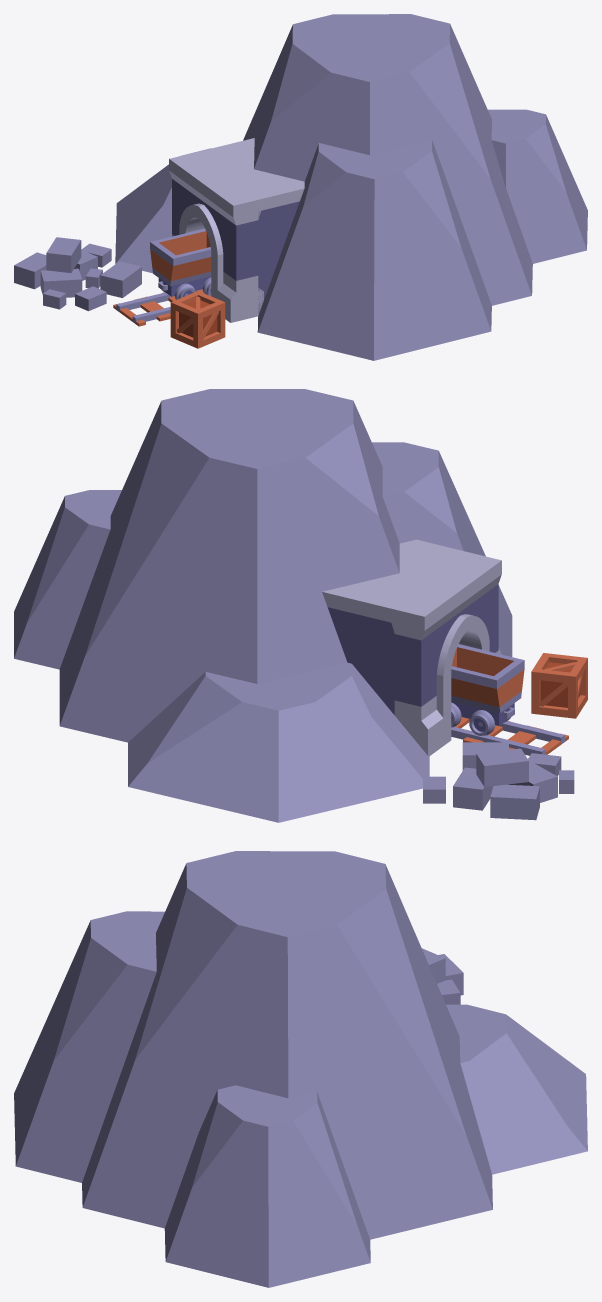
File: Goldmine.fbx
3 renders of one model, top to bottom at view 1: azimuth 30°, elevation 25°; view 2: azimuth 150°, elevation 25°; view 3: azimuth 270°, elevation 25°, orthographic. The views are drawn at different scales.
Parts seen in each view (by area): view 1: mergedBlocks; view 2: mergedBlocks; view 3: mergedBlocks.
Part boxes in pixels (x1,y1,x2,y2): mergedBlocks: (14,14,587,360); mergedBlocks: (14,389,587,822); mergedBlocks: (14,851,587,1287).
Size of the model in its own units: 45.44 by 18.3 by 35.24.
